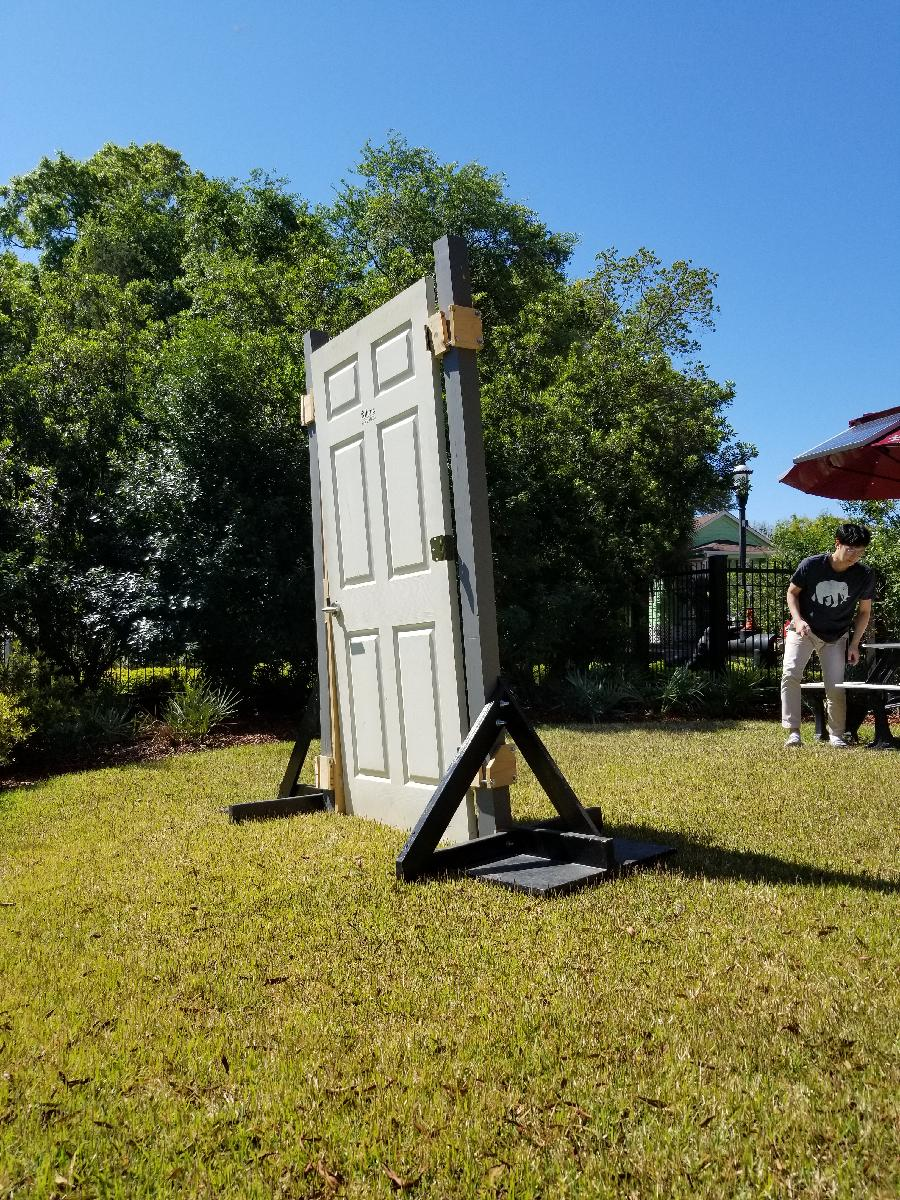door: (304, 275, 480, 861)
doorHandle: (324, 599, 352, 619)
